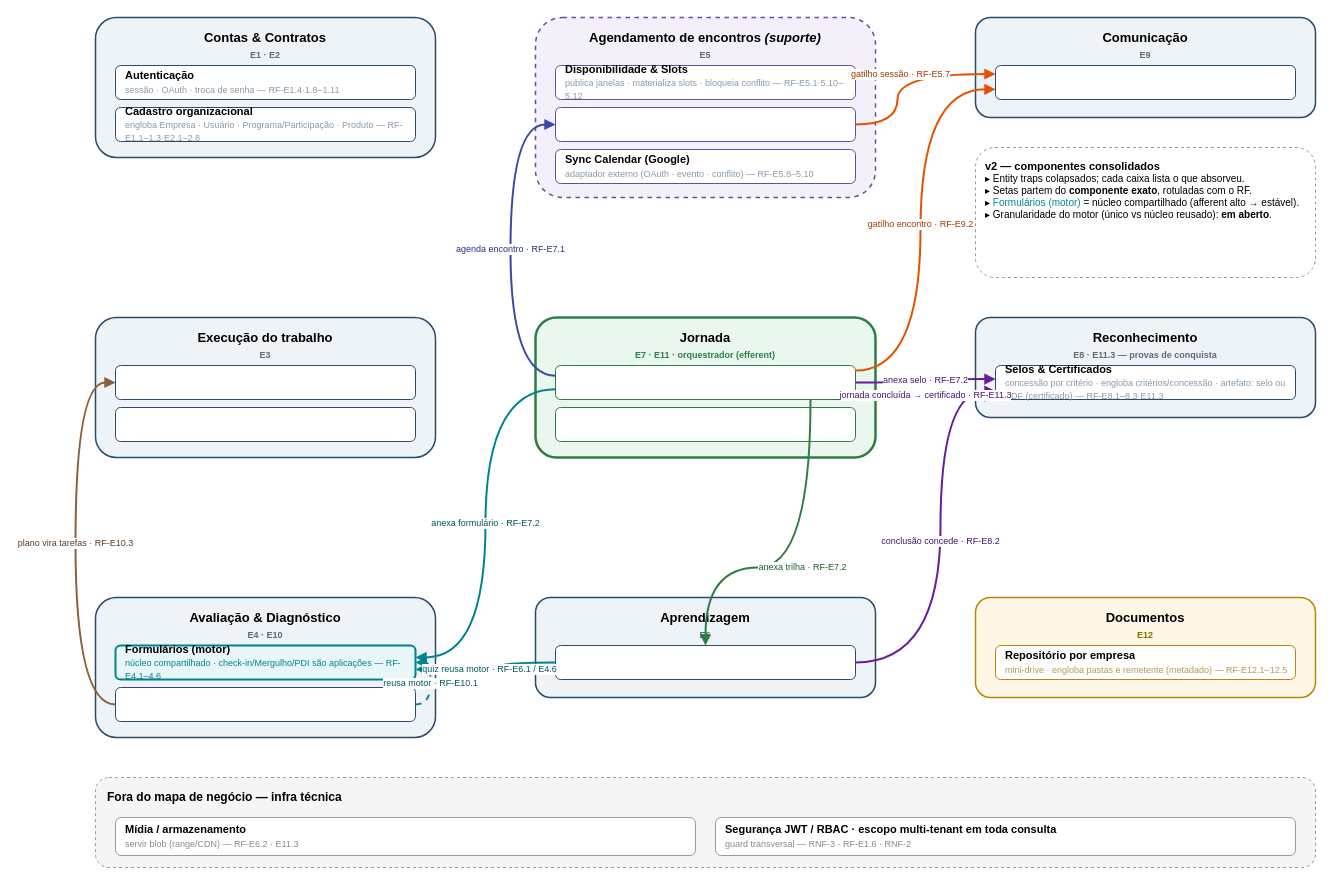
Some shapes in this 1333 by 886 pixel diagram are drawn without their labels. The centre of each missing label's shape, as x and y in pixels:
"Ciclos engloba templates e rollover — RF-E3.6–3.9·3.12" goes at [265,424].
"Diagnóstico maturidade por dimensão · engloba plano de ação — RF-E10.1–10.3" goes at [265,704].
"Etapas engloba encontros (tipo de etapa: marco/encontro/formatura) — RF-E7.1–7.4" goes at [705,382].
"Mensagens modelos + disparos WhatsApp (status · retry) — RF-E9.1–9.3" goes at [1145,82].
"Presença / check-in registro por QR · relatório — RF-E11.1–11.2" goes at [705,424].
"Sessões agendar · transferir · engloba registro do combinado — RF-E5.2–5.6" goes at [705,124].
"Tarefas engloba sementeira (estado sem ciclo) — RF-E3.1–3.5·3.10" goes at [265,382].
"Trilhas engloba itens, quiz e progresso — RF-E6.1–6.4·E4.6" goes at [705,662].
